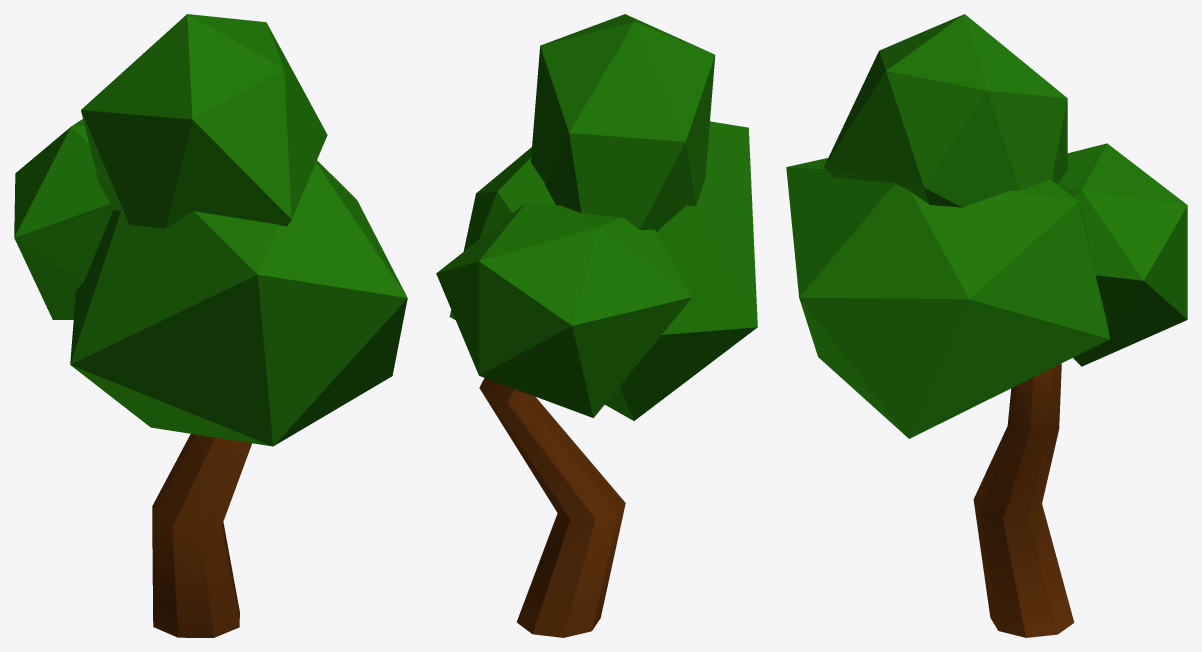
File: tree-02.fbx
3 views of the same model, side by side, from view 1: azimuth 30°, elevation 25°; view 2: azimuth 150°, elevation 25°; view 3: azimuth 270°, elevation 25° (orthographic). The views are drawn at different scales.
Visible parts, largest first — view 1: tree1, tree2, trunk, tree; view 2: tree, tree2, tree1, trunk; view 3: tree1, tree2, tree, trunk.
Part boxes in pixels (x1=…): tree1: x1=70, y1=160, x2=407, y2=446; tree2: x1=81, y1=14, x2=327, y2=228; trunk: x1=152, y1=434, x2=251, y2=637; tree: x1=14, y1=119, x2=112, y2=319; tree: x1=436, y1=203, x2=692, y2=417; tree2: x1=531, y1=14, x2=715, y2=231; tree1: x1=449, y1=121, x2=757, y2=420; trunk: x1=479, y1=378, x2=625, y2=637; tree1: x1=786, y1=158, x2=1109, y2=438; tree2: x1=824, y1=14, x2=1067, y2=207; tree: x1=1058, y1=143, x2=1187, y2=366; trunk: x1=973, y1=363, x2=1074, y2=637.
Bounding box in the file's own units: 2.13 × 4.35 × 2.71.
